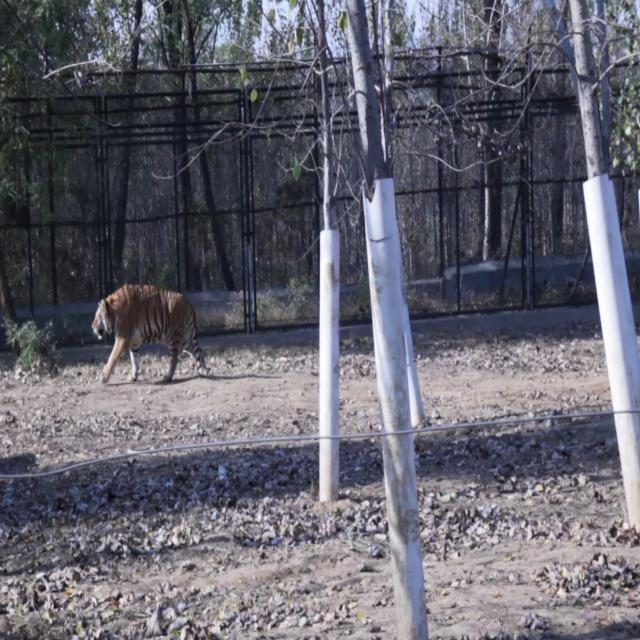Tiger: (89, 276, 212, 391)
